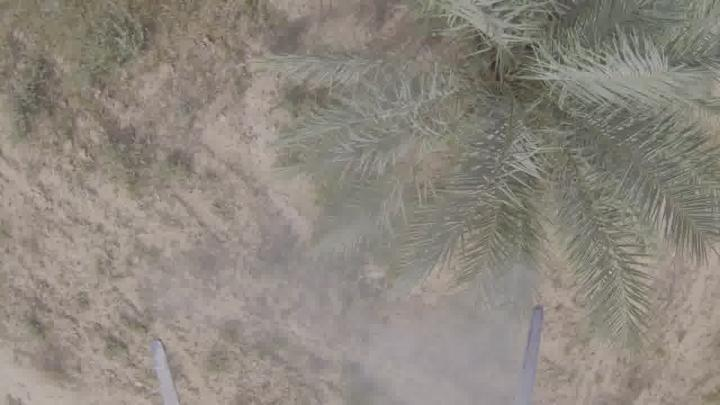Date-Palm-Crown: (343, 0, 701, 272)
